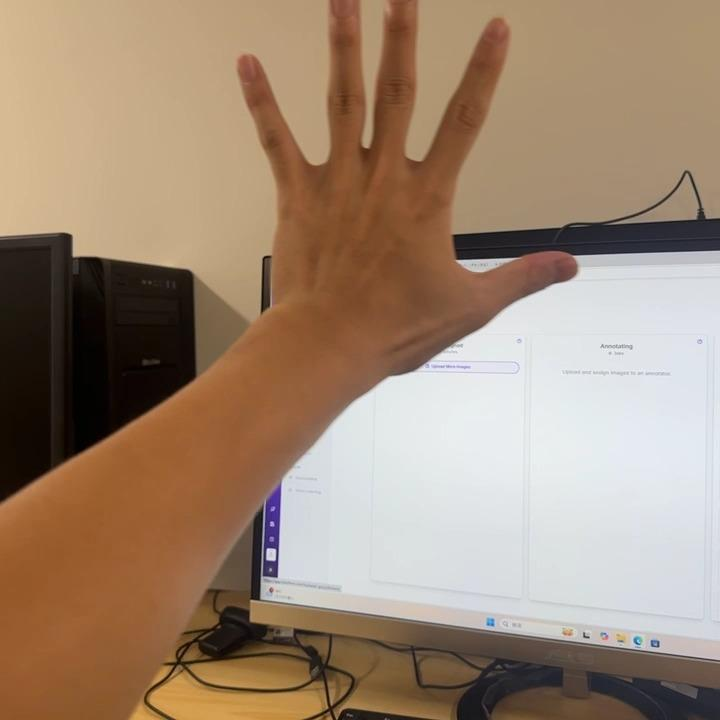without_gloves: (213, 0, 573, 371)
